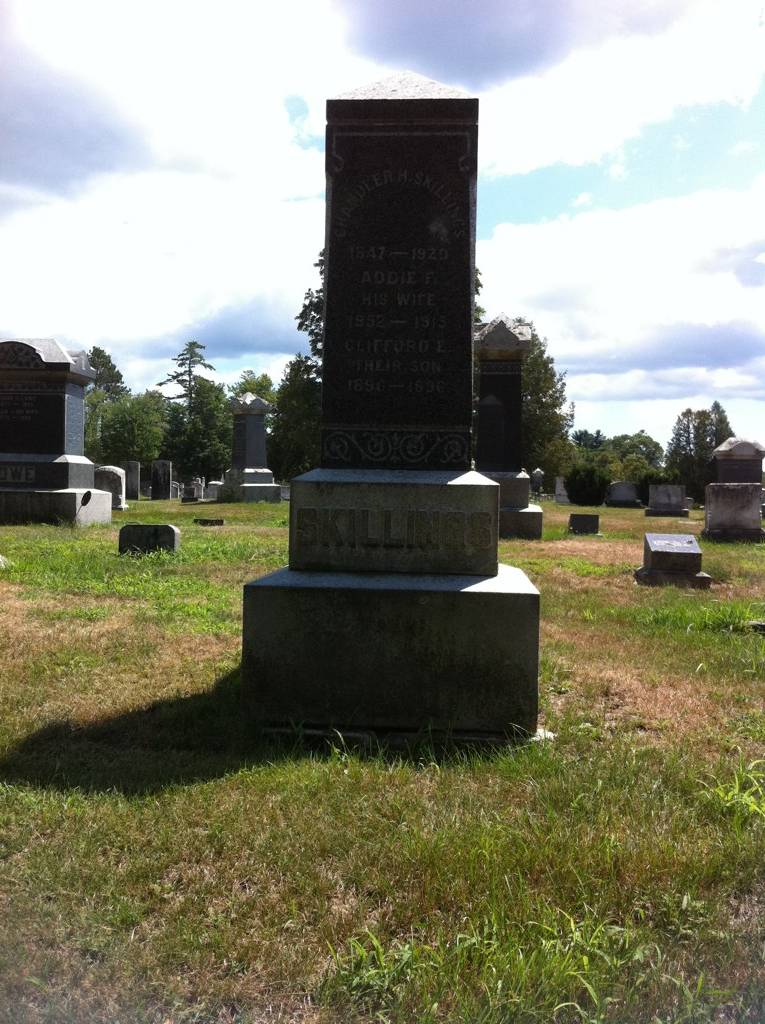obelisk: (227, 50, 573, 781)
